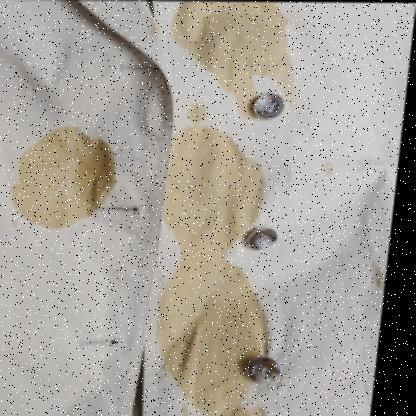coffee: (163, 135, 240, 250), (178, 3, 292, 76), (169, 267, 260, 354), (15, 138, 109, 222)
